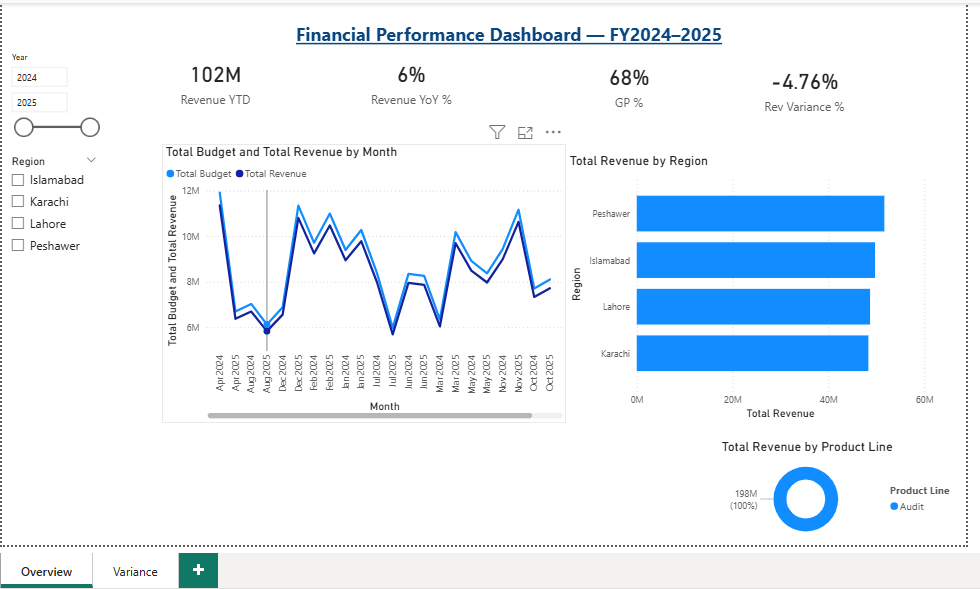

This screenshot's page, from the dashboard's own definition file:
{"tool":"powerbi","page":{"name":"Overview","canvas":[1280,720],"ordinal":0},"visuals":[{"type":"card","fields":{"Values":["_Measures.Revenue YTD"]},"box":[212.2,51.2,142,102.4],"z":0},{"type":"card","fields":{"Values":["_Measures.GP %"]},"box":[768.3,61.5,130.2,92.2],"z":1000},{"type":"card","fields":{"Values":["_Measures.Rev Variance %"]},"box":[996.6,71.7,139,82],"z":2000},{"type":"card","fields":{"Values":["_Measures.Revenue YoY %"]},"box":[481.5,52.7,125.9,101],"z":3000},{"type":"lineChart","fields":{"Category":["Dim_Date.Month"],"Y":["_Measures.Total Budget","_Measures.Total Revenue"]},"box":[212.2,187.3,537.1,370.2],"z":4000},{"type":"clusteredBarChart","fields":{"Category":["Actuals.Region"],"Y":["_Measures.Total Revenue"]},"box":[749.3,199,493.2,358.5],"z":5000},{"type":"donutChart","fields":{"Category":["Actuals.Product Line"],"Y":["_Measures.Total Revenue"]},"box":[951.2,579.5,329.3,140.5],"z":6000},{"type":"slicer","fields":{"Values":["Dim_Date.Year"]},"box":[0,61.5,137.6,122.9],"z":7000},{"type":"slicer","fields":{"Values":["Actuals.Region"]},"box":[0,196.1,137.6,177.1],"z":8000},{"type":"textbox","box":[370.2,20.5,605.9,51.2],"z":8001}]}

Visuals, with their boxes on the page's 1280x720 design canvas (x1, y1, x2, y2). These are canvas units, not pixel positions in the 980x589 screenshot, which may show the page scaled, cropped or inside an application window:
card - _Measures.Revenue YTD: locate(212, 51, 354, 154)
card - _Measures.GP %: locate(768, 62, 898, 154)
card - _Measures.Rev Variance %: locate(997, 72, 1136, 154)
card - _Measures.Revenue YoY %: locate(482, 53, 607, 154)
lineChart - Dim_Date.Month x _Measures.Total Budget: locate(212, 187, 749, 558)
clusteredBarChart - Actuals.Region x _Measures.Total Revenue: locate(749, 199, 1242, 558)
donutChart - Actuals.Product Line x _Measures.Total Revenue: locate(951, 580, 1280, 720)
slicer - Dim_Date.Year: locate(0, 62, 138, 184)
slicer - Actuals.Region: locate(0, 196, 138, 373)
textbox: locate(370, 20, 976, 72)
